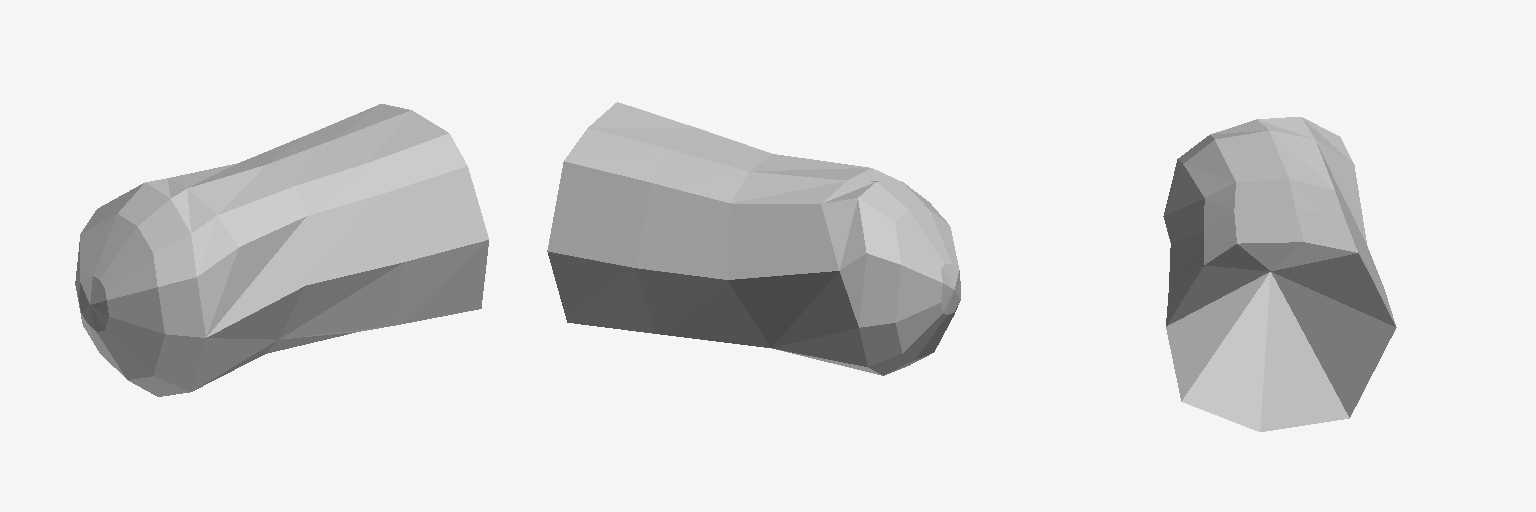
File: left shoulder.obj
3 renders of one model, left to right at view 1: azimuth 30°, elevation 25°; view 2: azimuth 150°, elevation 25°; view 3: azimuth 270°, elevation 25°, orthographic.
Visible parts, largest first — view 1: model459.002; view 2: model459.002; view 3: model459.002.
Boxes of the visible parts, <box> form: model459.002: <box>75,104,488,396</box>; model459.002: <box>547,102,960,375</box>; model459.002: <box>1163,117,1396,431</box>.
Size of the model in its own units: 2.52 by 1.32 by 1.44.